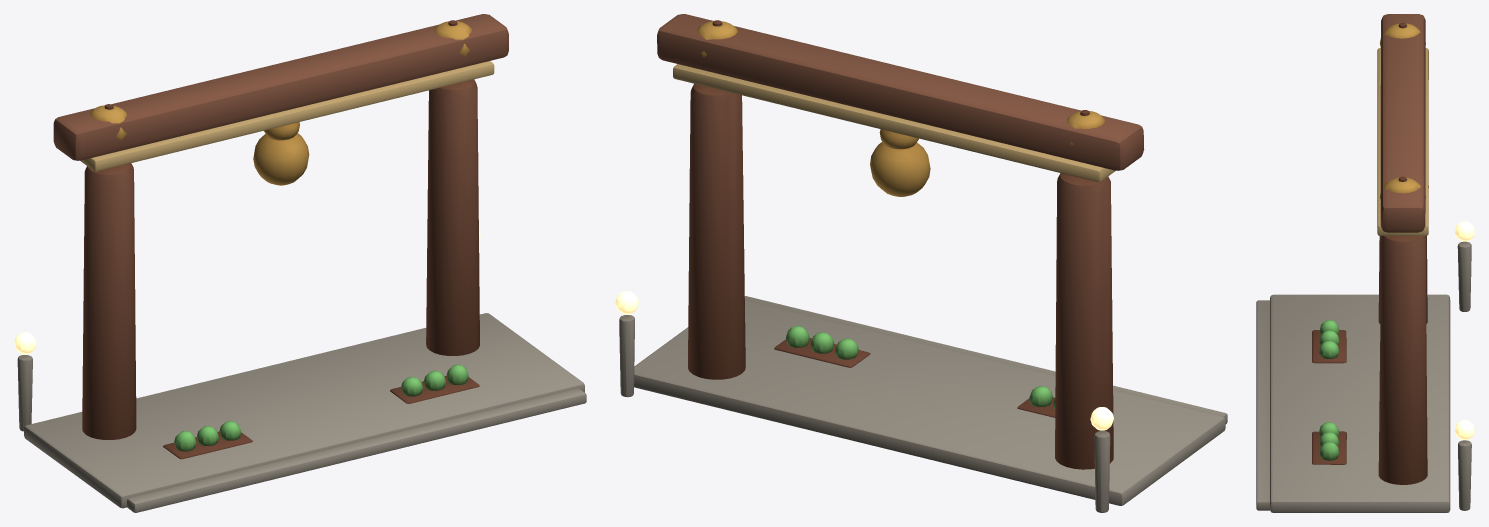
3 views of the same model, side by side, from view 1: azimuth 30°, elevation 25°; view 2: azimuth 150°, elevation 25°; view 3: azimuth 270°, elevation 25° (orthographic). The views are drawn at different scales.
Visible parts, largest first — view 1: gate_98f858ba; view 2: gate_98f858ba; view 3: gate_98f858ba.
Part boxes in pixels (x1,y1,x2,y2): gate_98f858ba: (14, 14, 586, 512); gate_98f858ba: (615, 14, 1227, 512); gate_98f858ba: (1256, 14, 1474, 512).
Size of the model in its own units: 5.74 by 3.98 by 2.55.
